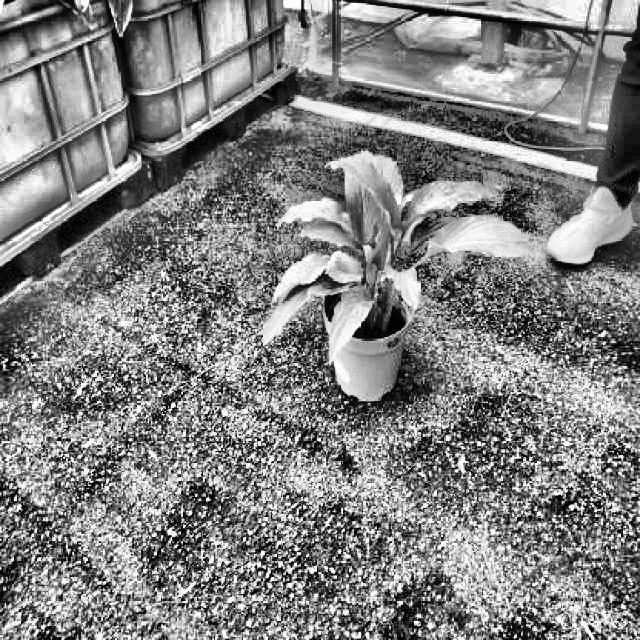plants: (258, 150, 540, 378)
